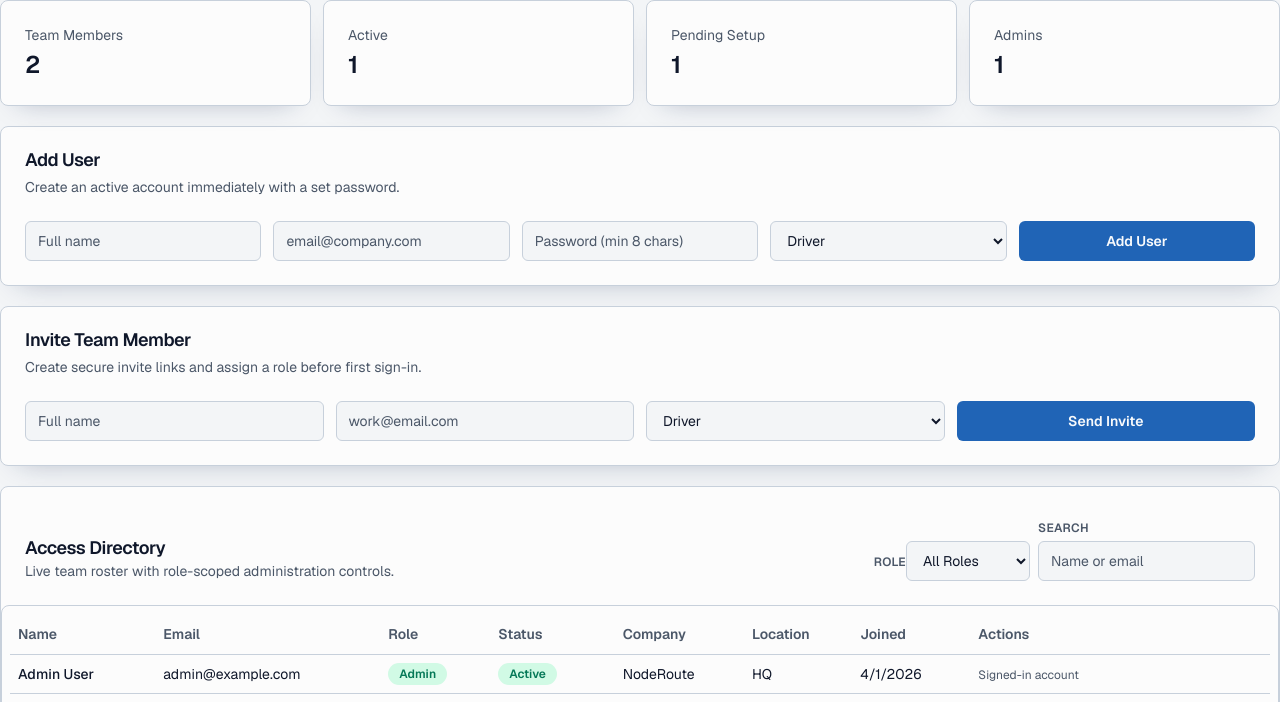
Test: UsersPage › creates an active user and sends an invite without exposing manual links
Click the button "Add User" at point(1137, 241), box left=1019, top=221, right=1255, bottom=261
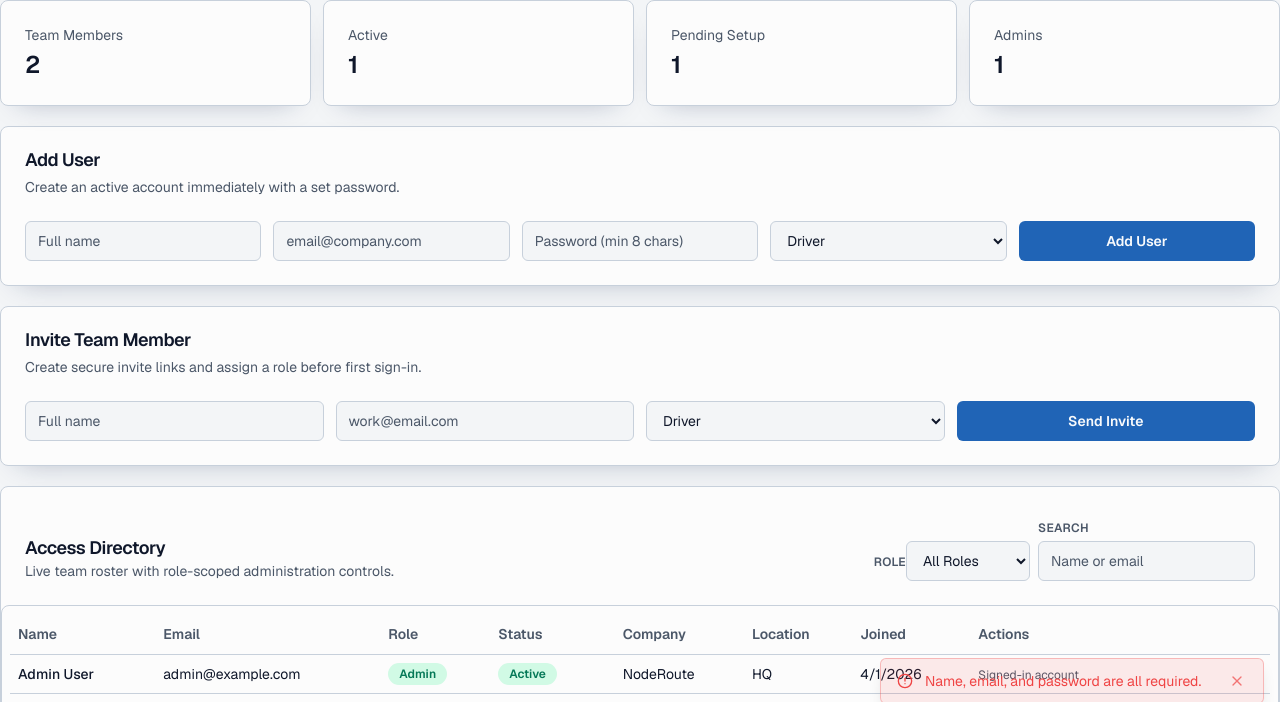
Now the text "Name, email, and password are all required." is shown, box left=925, top=671, right=1215, bottom=691
Type "Taylor Ops" into the 1st field with placeholder "Full name" at point(143, 241), box left=25, top=221, right=261, bottom=261
Type "taylor@example.com" into the field with placeholder "email@company.com" at point(392, 241), box left=273, top=221, right=510, bottom=261
Type "strongpass" into the password field with placeholder "Password (min 8 chars)" at point(640, 241), box left=522, top=221, right=758, bottom=261
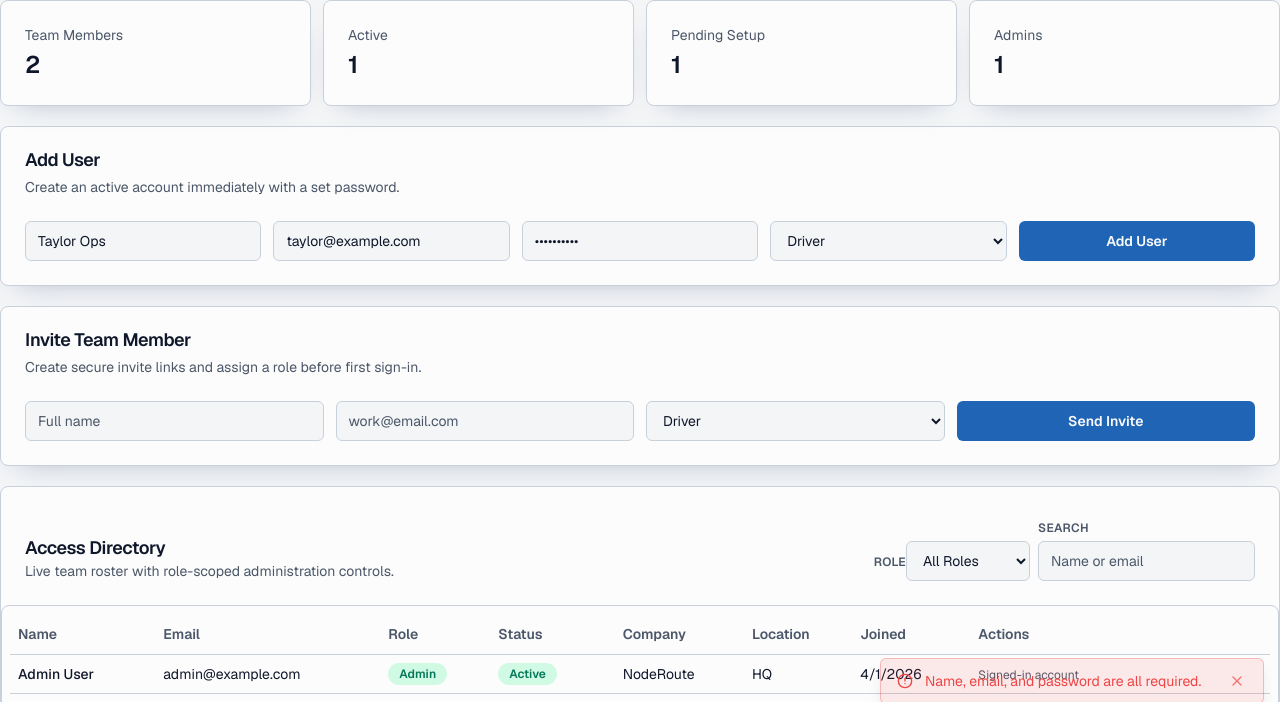
Click the button "Add User" at point(1137, 241), box left=1019, top=221, right=1255, bottom=261
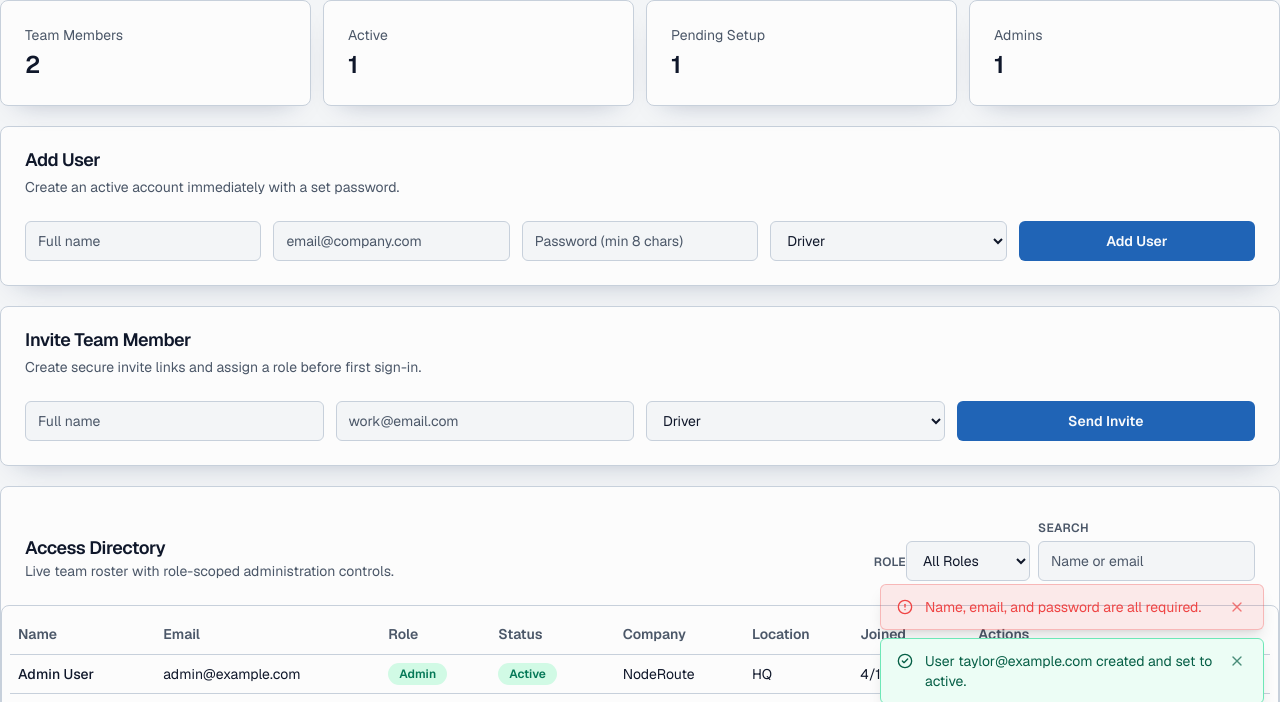
Now the text "User taylor@example.com created and set to active." is shown, box left=925, top=651, right=1215, bottom=691
Type "Jordan Manager" into the field with placeholder "Full name" below "Invite Team Member" at point(174, 421), box left=25, top=401, right=324, bottom=441
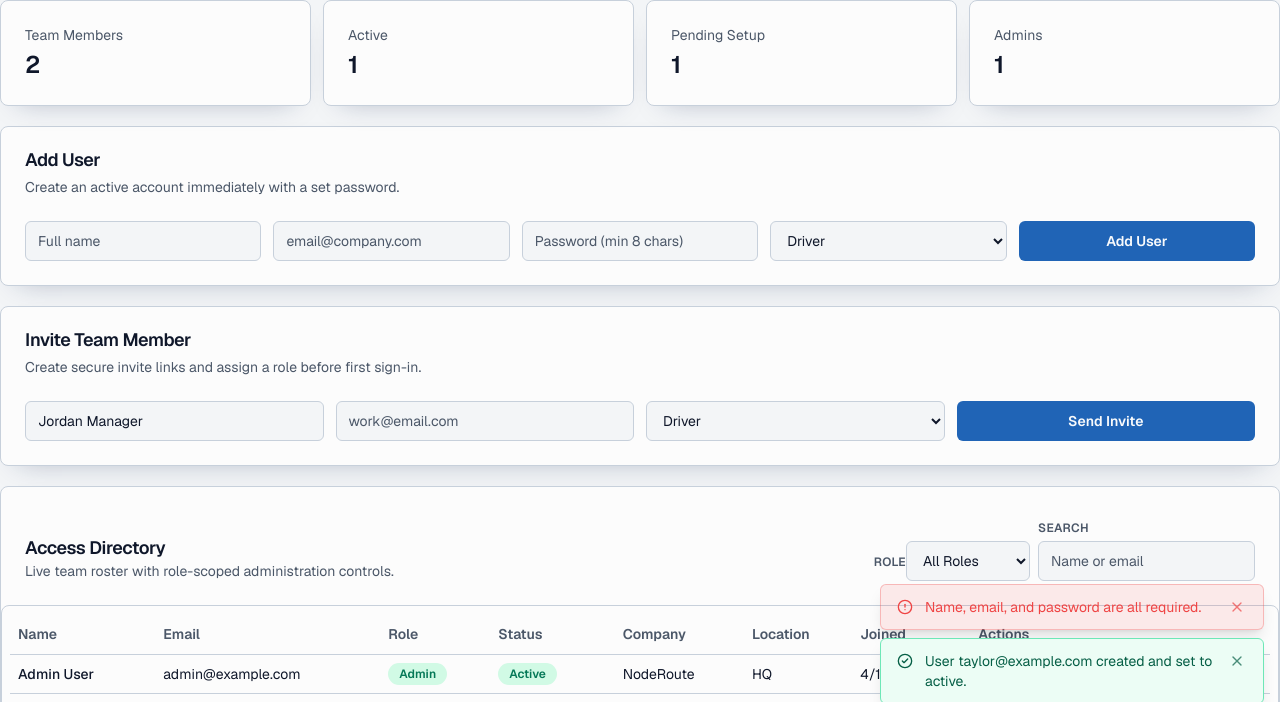
Type "jordan@example.com" into the field with placeholder "work@email.com" at point(485, 421), box left=336, top=401, right=634, bottom=441
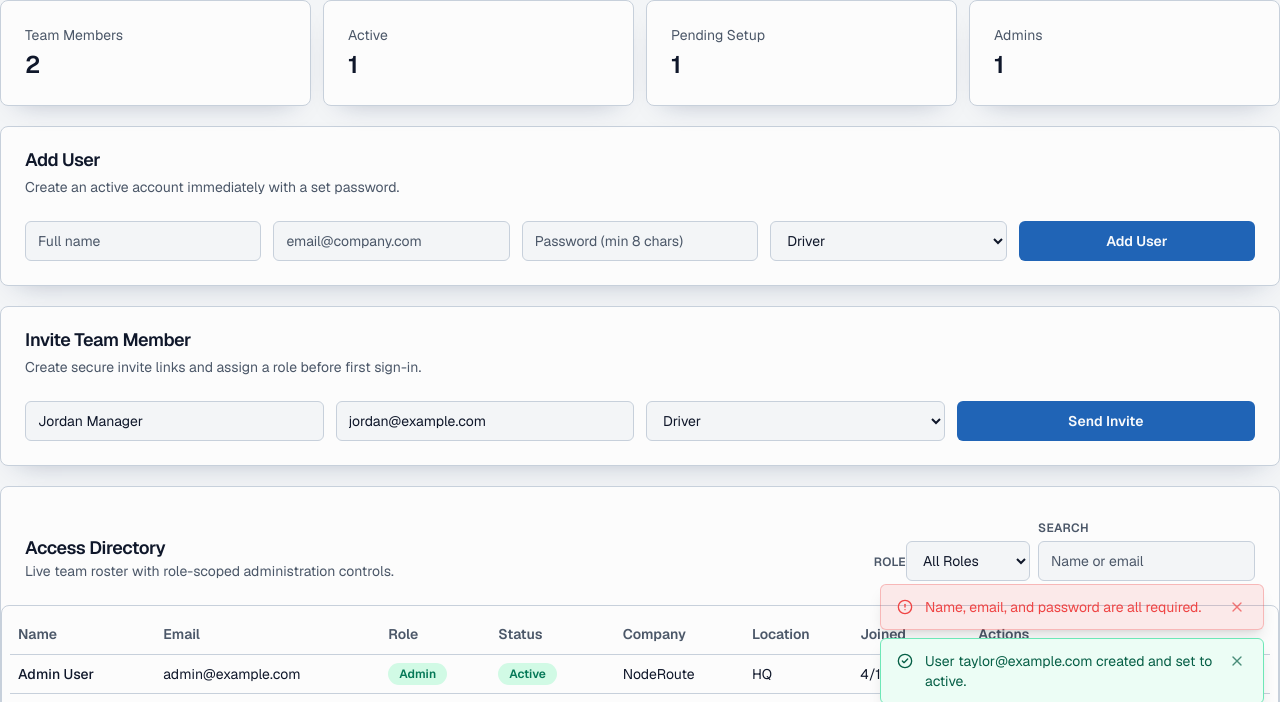
Click the button "Send Invite" at point(1106, 421), box left=956, top=401, right=1255, bottom=441
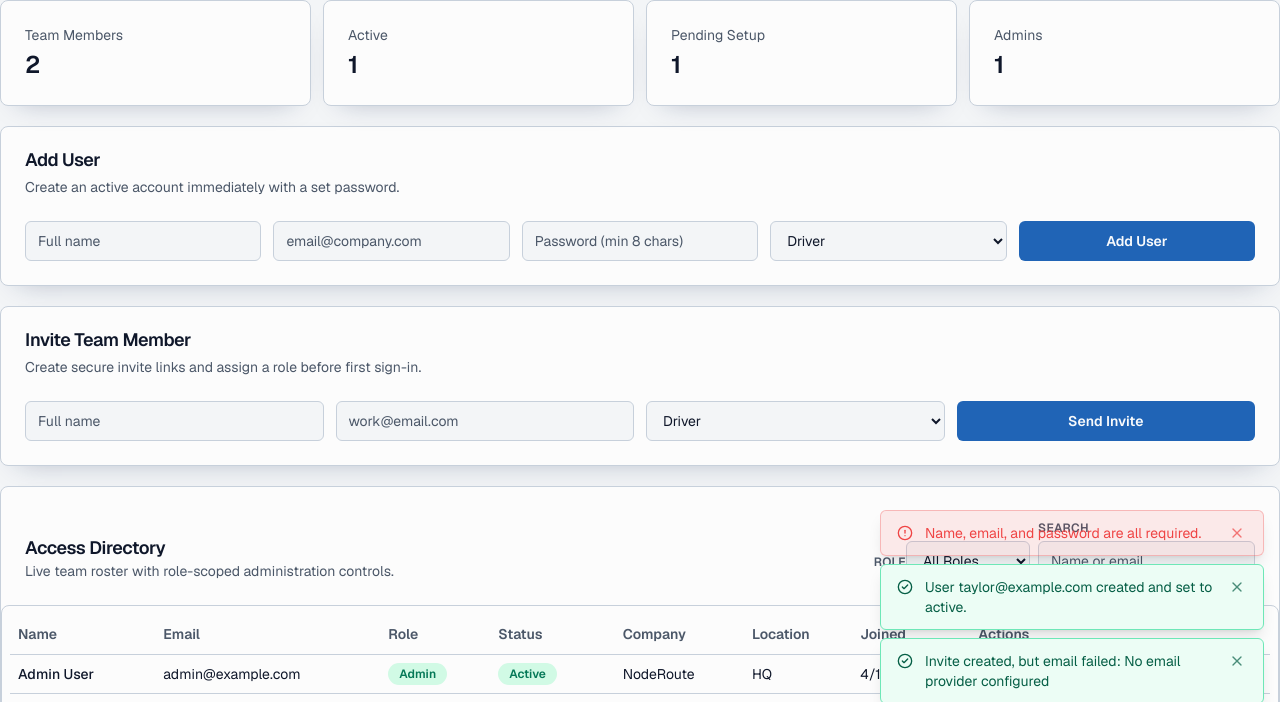
Now the text "Invite created" is shown, box left=925, top=652, right=1184, bottom=690
